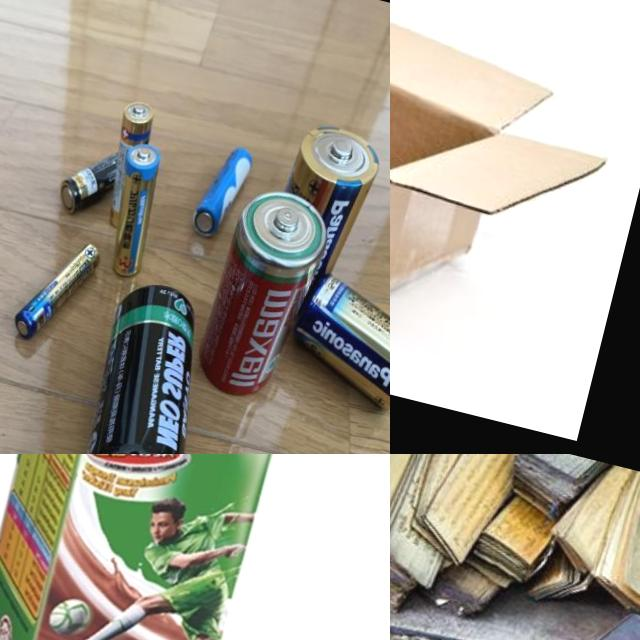bateria: (184, 180, 338, 408), (55, 269, 228, 454), (253, 113, 390, 318), (276, 264, 390, 421), (9, 228, 103, 354), (98, 142, 170, 278), (99, 99, 160, 230), (187, 138, 257, 245), (53, 144, 119, 222)
caixinha: (0, 454, 333, 640)
papel: (463, 587, 640, 640)
papelão: (390, 0, 628, 374)
